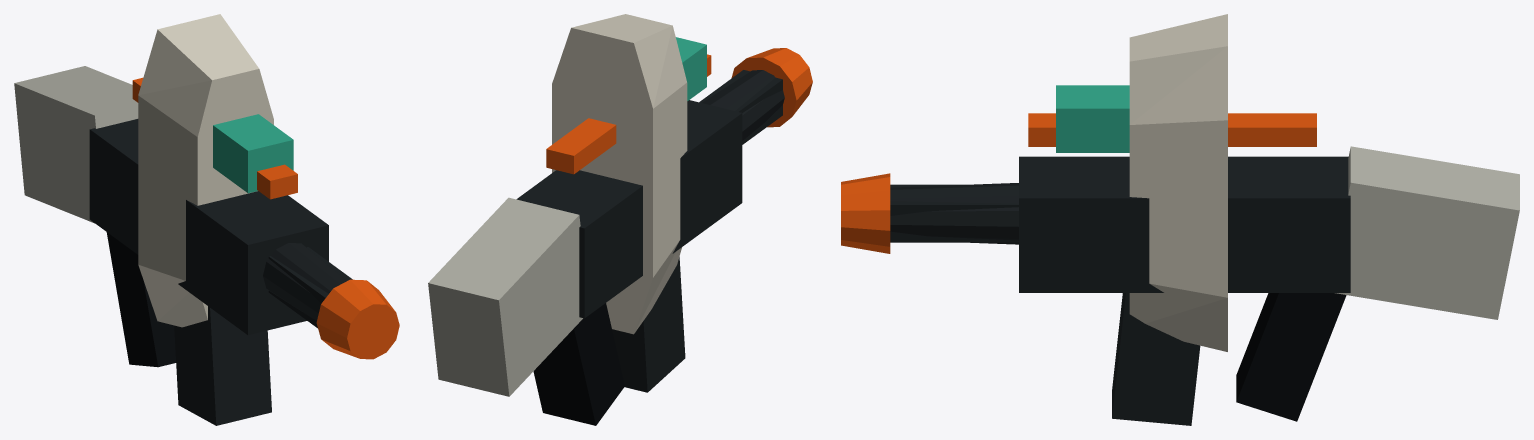
File: k11_rifle_v2.obj
The picture shows the model from 3 angles, left to right: view 1: azimuth 30°, elevation 25°; view 2: azimuth 150°, elevation 25°; view 3: azimuth 270°, elevation 25°; orthographic projection. The views are drawn at different scales.
Parts seen in each view (by area): view 1: K11_UpperShell, K11_Core, K11_Stock, K11_Magazine, K11_Muzzle, K11_Grip, K11_Sight, K11_Barrel, K11_OrangeSpine, K11_BarrelRail; view 2: K11_UpperShell, K11_Stock, K11_Core, K11_Grip, K11_Magazine, K11_OrangeSpine, K11_Muzzle, K11_Barrel, K11_Sight, K11_BarrelRail; view 3: K11_Core, K11_UpperShell, K11_Stock, K11_Grip, K11_Magazine, K11_Barrel, K11_Sight, K11_OrangeSpine, K11_Muzzle, K11_BarrelRail.
Part boxes in pixels (left/top/right/bottom): K11_UpperShell: left=138, top=14, right=273, bottom=327; K11_Core: left=89, top=119, right=328, bottom=335; K11_Stock: left=14, top=66, right=138, bottom=223; K11_Magazine: left=174, top=306, right=271, bottom=425; K11_Muzzle: left=316, top=279, right=399, bottom=359; K11_Grip: left=106, top=232, right=175, bottom=367; K11_Sight: left=213, top=114, right=293, bottom=193; K11_Barrel: left=263, top=243, right=346, bottom=320; K11_OrangeSpine: left=132, top=77, right=297, bottom=199; K11_BarrelRail: left=268, top=247, right=352, bottom=328; K11_UpperShell: left=552, top=14, right=687, bottom=334; K11_Stock: left=428, top=197, right=582, bottom=396; K11_Core: left=516, top=100, right=742, bottom=318; K11_Grip: left=533, top=303, right=624, bottom=425; K11_Magazine: left=612, top=257, right=685, bottom=392; K11_OrangeSpine: left=546, top=54, right=711, bottom=174; K11_Muzzle: left=731, top=48, right=812, bottom=127; K11_Barrel: left=702, top=70, right=784, bottom=140; K11_Sight: left=676, top=37, right=706, bottom=100; K11_BarrelRail: left=699, top=70, right=782, bottom=144; K11_Core: left=1019, top=156, right=1350, bottom=292; K11_UpperShell: left=1129, top=14, right=1227, bottom=351; K11_Stock: left=1335, top=146, right=1519, bottom=319; K11_Grip: left=1236, top=293, right=1346, bottom=421; K11_Magazine: left=1112, top=293, right=1200, bottom=425; K11_Barrel: left=890, top=183, right=1018, bottom=244; K11_Sight: left=1056, top=85, right=1129, bottom=152; K11_OrangeSpine: left=1028, top=113, right=1316, bottom=146; K11_Muzzle: left=841, top=173, right=890, bottom=253; K11_BarrelRail: left=890, top=184, right=1018, bottom=242.
Size of the model in its own units: 0.2 by 0.6858 by 1.11.
